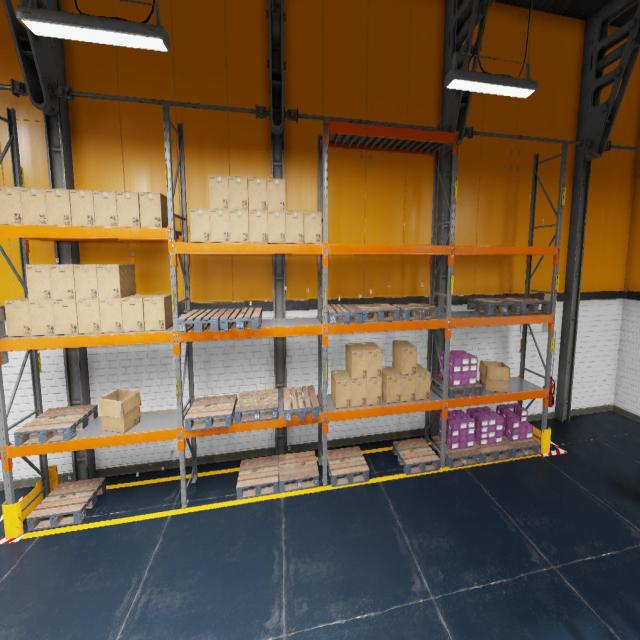box: (98, 389, 141, 433), (50, 264, 91, 300), (96, 264, 136, 298), (121, 294, 155, 332), (74, 264, 110, 299), (143, 293, 173, 331), (4, 298, 32, 336), (44, 188, 72, 226), (20, 187, 48, 225), (139, 192, 168, 228), (479, 360, 510, 392), (69, 189, 95, 226), (29, 300, 55, 336), (26, 264, 52, 300), (93, 190, 118, 227), (52, 300, 78, 335), (0, 186, 23, 225), (392, 340, 417, 375), (76, 299, 101, 334), (116, 191, 140, 227), (392, 366, 416, 401), (99, 298, 123, 332), (360, 343, 382, 378), (331, 370, 351, 408), (346, 343, 367, 379), (382, 366, 402, 403), (346, 371, 367, 406), (208, 175, 229, 209), (228, 176, 248, 210), (190, 208, 210, 242), (229, 210, 249, 242), (210, 210, 230, 242), (249, 210, 268, 243), (267, 178, 286, 211), (267, 211, 286, 243), (248, 178, 267, 210), (286, 211, 304, 243), (304, 212, 321, 243), (416, 364, 430, 400), (366, 377, 382, 405)
pallets: (26, 477, 106, 531), (13, 404, 98, 446), (184, 394, 237, 431), (236, 455, 279, 499), (392, 438, 440, 475), (327, 446, 369, 487), (279, 450, 319, 492), (431, 436, 481, 468), (235, 389, 278, 423), (283, 385, 319, 422), (177, 309, 227, 333), (432, 375, 482, 398), (220, 308, 262, 331), (502, 434, 541, 458), (496, 297, 551, 313), (354, 303, 400, 322), (474, 440, 512, 463), (467, 298, 520, 314), (393, 304, 439, 320), (328, 304, 362, 324)
